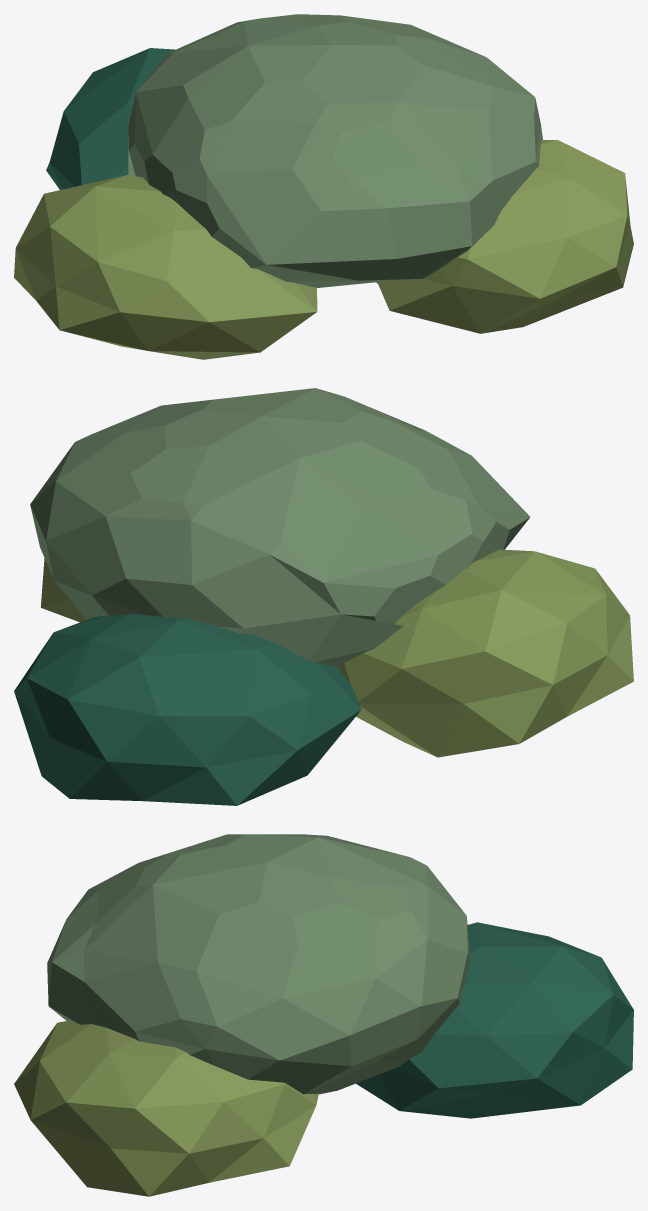
Rendered from lipa_mk3.fbx.
The picture shows the model from 3 angles, top to bottom: view 1: azimuth 30°, elevation 25°; view 2: azimuth 150°, elevation 25°; view 3: azimuth 270°, elevation 25°; orthographic projection. The views are drawn at different scales.
Visible parts, largest first — view 1: Icosphere.083, Icosphere.084, Icosphere.086, Icosphere.085; view 2: Icosphere.083, Icosphere.085, Icosphere.084, Icosphere.086; view 3: Icosphere.083, Icosphere.086, Icosphere.085.
Part boxes in pixels (x1,y1,x2,y2): Icosphere.083: (128,14,542,287); Icosphere.084: (14,175,317,359); Icosphere.086: (376,140,633,333); Icosphere.085: (46,48,175,189); Icosphere.083: (30,388,530,667); Icosphere.085: (14,613,361,805); Icosphere.084: (338,549,633,757); Icosphere.086: (40,558,86,622); Icosphere.083: (47,834,470,1094); Icosphere.086: (14,1021,318,1196); Icosphere.085: (356,922,633,1118).
Bounding box in the file's own units: 176 × 76.79 × 172.
